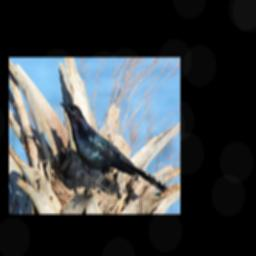Crow: (59, 102, 167, 199)
